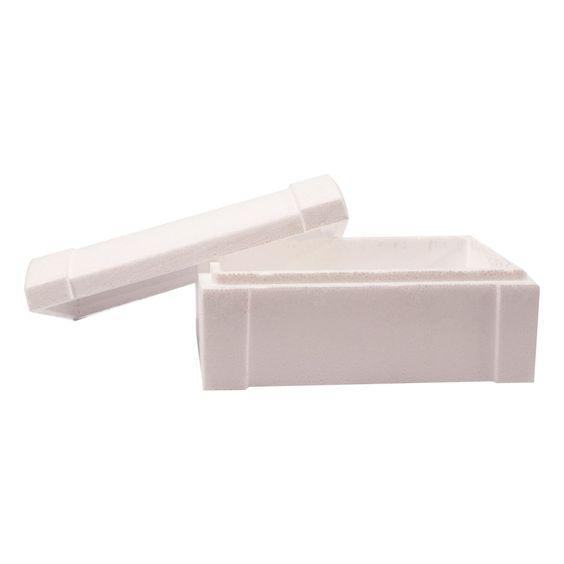PS: (194, 236, 540, 394), (20, 174, 350, 326)
